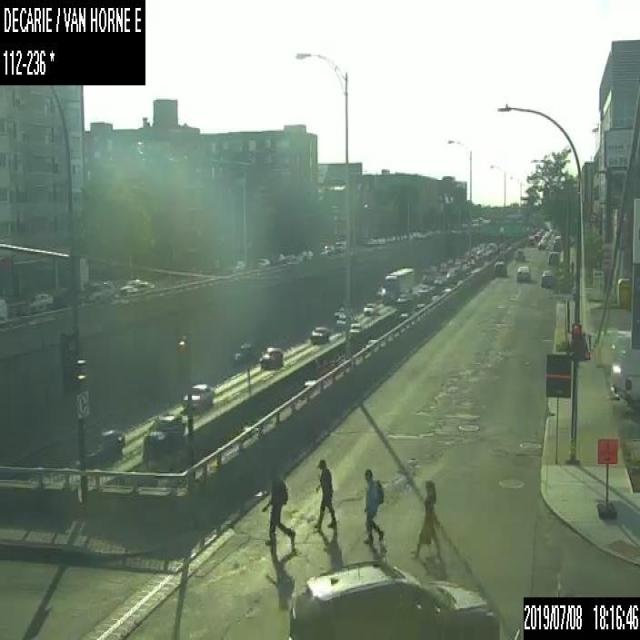construction: (596, 436, 618, 517)
pedestrian: (259, 468, 295, 545), (414, 479, 441, 561), (313, 457, 336, 531), (362, 467, 383, 545), (569, 259, 574, 273)
vehicle: (286, 556, 496, 639), (66, 423, 124, 469), (609, 329, 639, 407), (142, 411, 183, 453), (384, 266, 413, 302), (79, 278, 114, 303), (21, 291, 54, 317), (181, 381, 211, 408), (260, 345, 283, 367), (119, 280, 153, 294), (232, 343, 254, 364), (514, 264, 531, 282), (539, 267, 553, 288), (310, 324, 327, 341), (225, 259, 245, 272), (492, 259, 506, 276), (421, 265, 435, 282), (362, 301, 376, 315), (334, 314, 348, 328), (349, 321, 362, 336), (270, 252, 284, 264), (334, 239, 346, 252), (548, 251, 559, 265), (446, 266, 458, 278), (334, 306, 346, 318), (512, 247, 522, 260), (253, 258, 269, 266), (434, 273, 444, 284), (413, 303, 425, 312), (323, 244, 333, 254), (364, 236, 375, 245), (399, 310, 407, 322), (552, 234, 558, 250), (418, 284, 428, 292), (527, 234, 535, 244), (537, 241, 545, 249), (532, 233, 538, 240), (536, 231, 542, 237)
